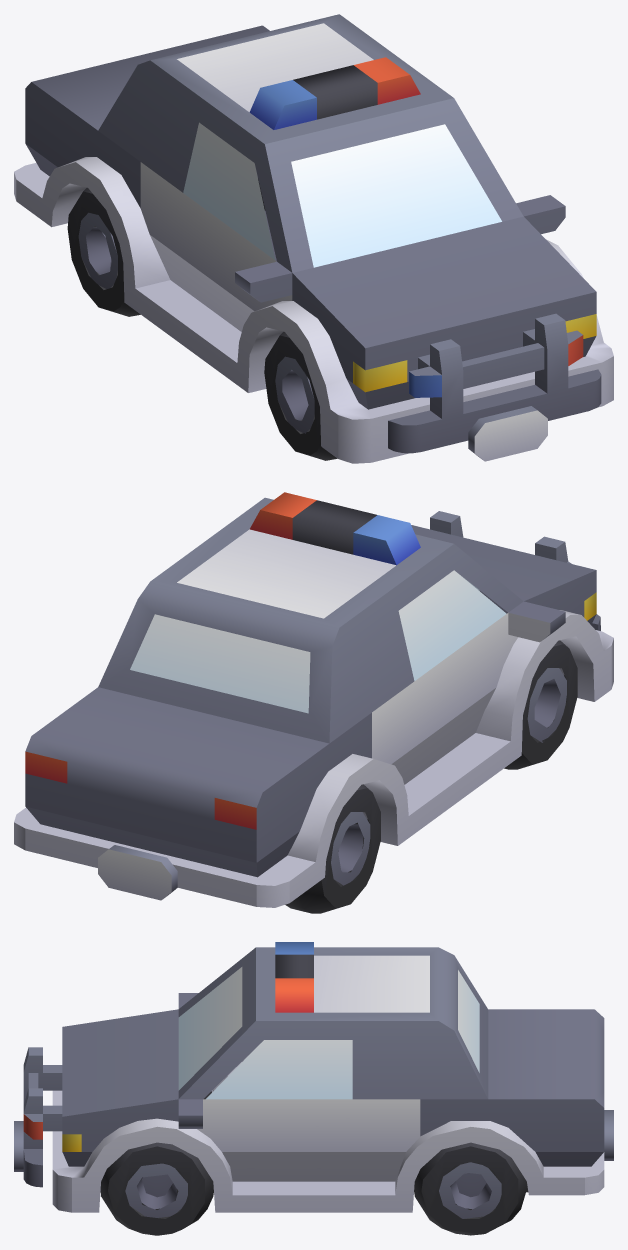
The model's file is police.glb.
3 views of the same model, one above another, from view 1: azimuth 30°, elevation 25°; view 2: azimuth 150°, elevation 25°; view 3: azimuth 270°, elevation 25° (orthographic). The views are drawn at different scales.
Parts seen in each view (by area): view 1: wheel-back-left; view 2: wheel-back-left; view 3: wheel-back-left.
Part boxes in pixels (left/top/right/bottom): wheel-back-left: left=14, top=14, right=613, bottom=463; wheel-back-left: left=14, top=492, right=613, bottom=913; wheel-back-left: left=14, top=942, right=613, bottom=1235.
Bounding box in the file's own units: 2.25 × 1.95 × 4.65.
Materials: 1 (1 with a texture image).
